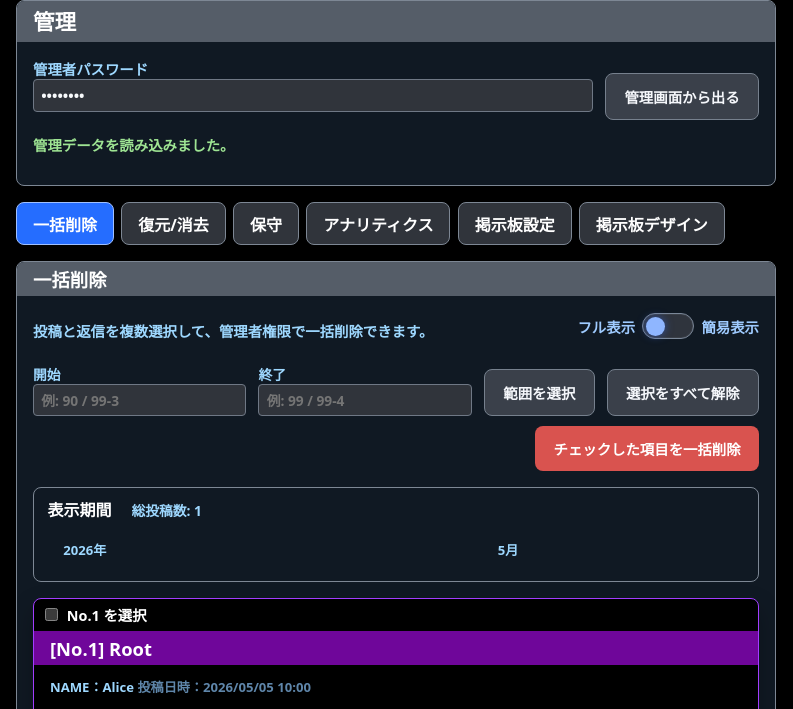
Scenario: AdminPage › clears all selected bulk delete targets
Type "1" into the field labelled "開始".
click(140, 400); type("1")  # box [33,384,246,416]
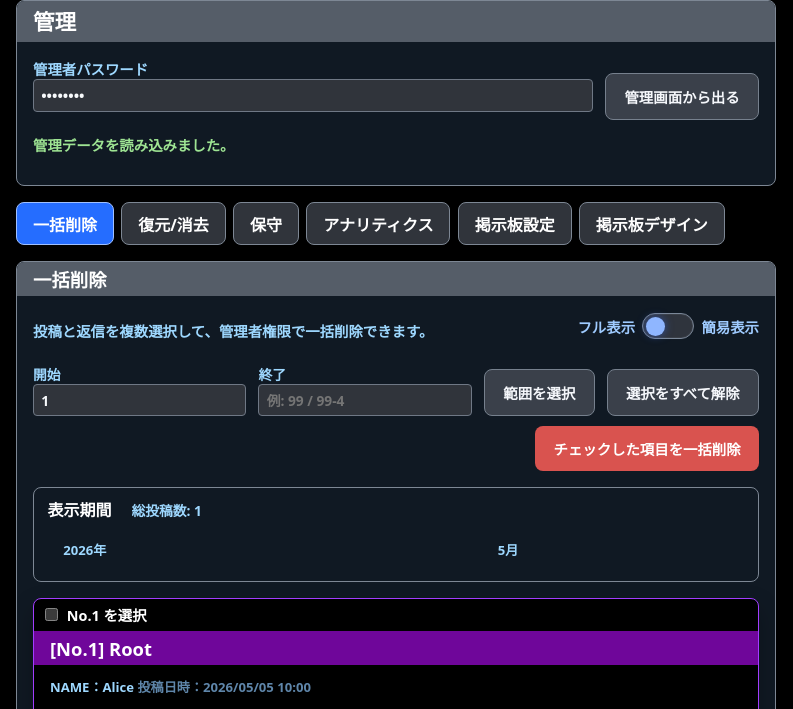
Click the button "範囲を選択".
click(539, 393)  # box [484,369,595,416]
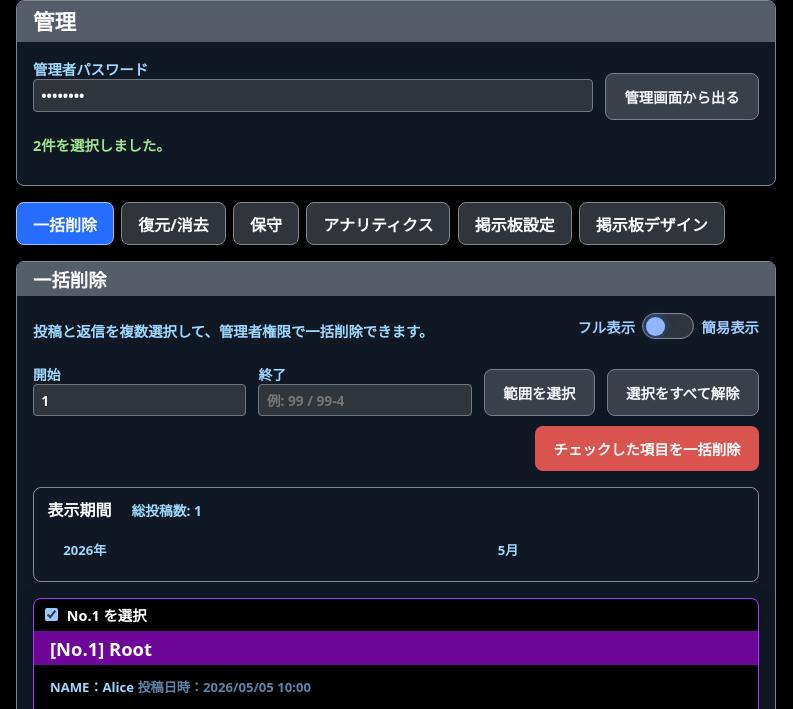
Result: the checkbox labelled "No.1 を選択" is checked at [45,608,58,622]
Click the button "選択をすべて解除".
click(683, 393)  # box [607,369,759,416]
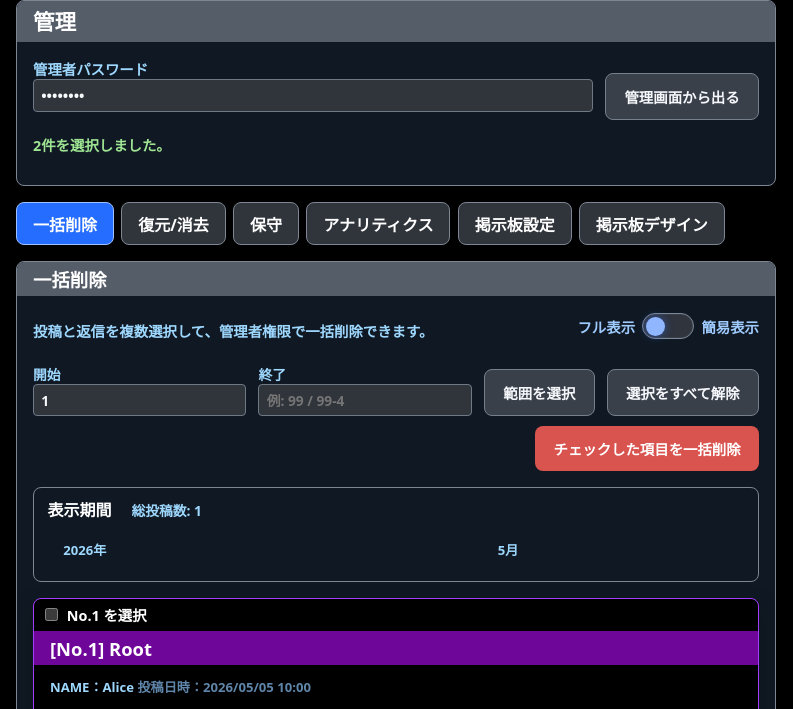
Result: the checkbox labelled "No.1 を選択" is not checked at [45,608,58,622]
